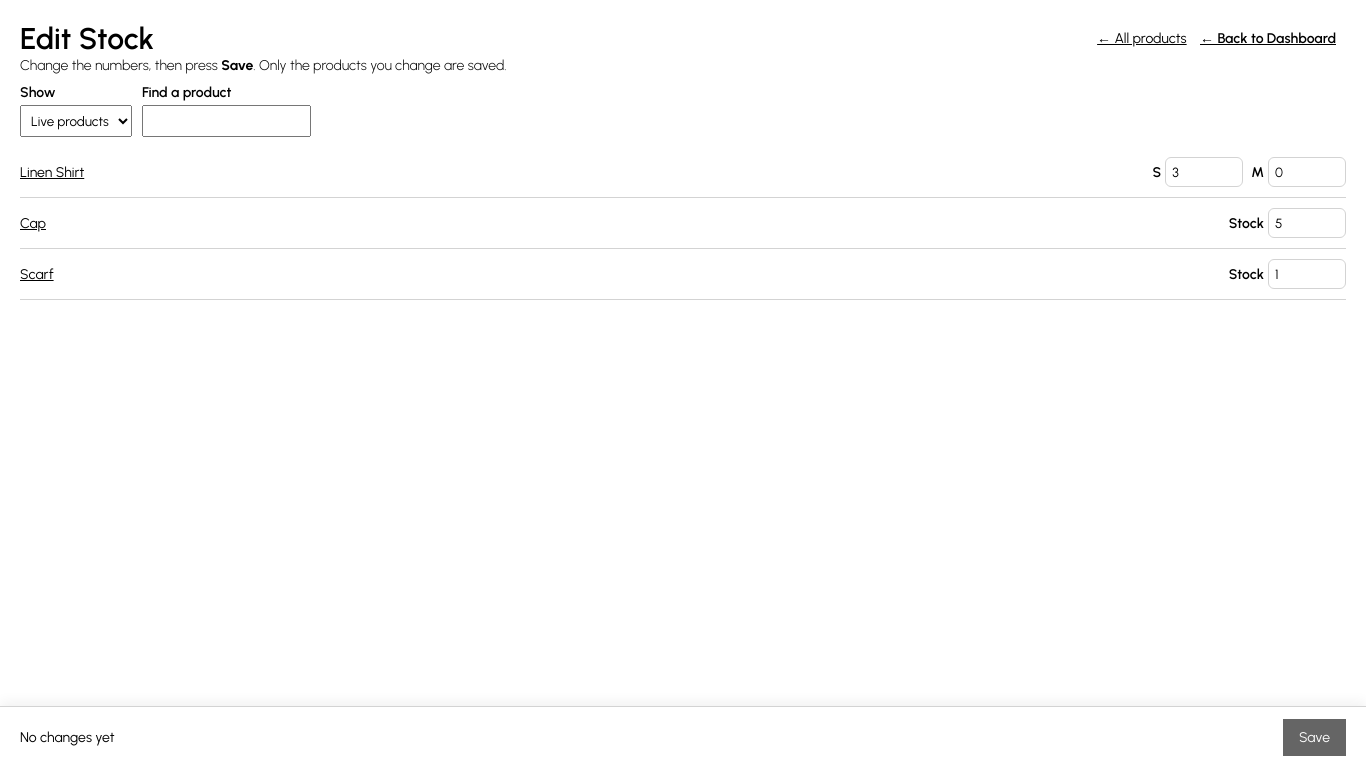
Test: AdminStock › saves only the products that changed, per size or as a whole
Expected: the button "Save" is disabled, left=1283, top=719, right=1346, bottom=756
Replace the text in the number field named "Linen Shirt, size M" with "6". click: x=1307, y=172
box: left=1268, top=157, right=1346, bottom=187
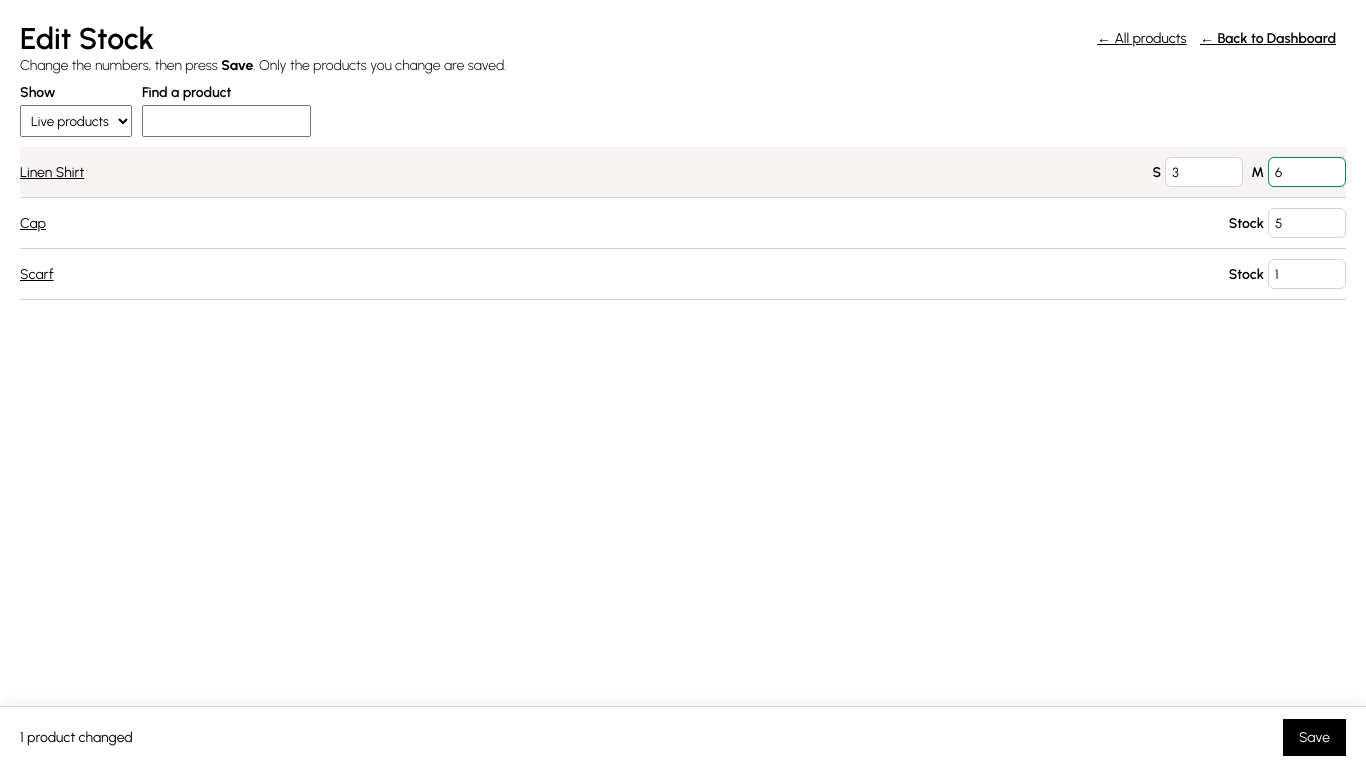
Replace the text in the number field named "Cap stock" with "9". click: x=1307, y=223
box: left=1268, top=208, right=1346, bottom=238
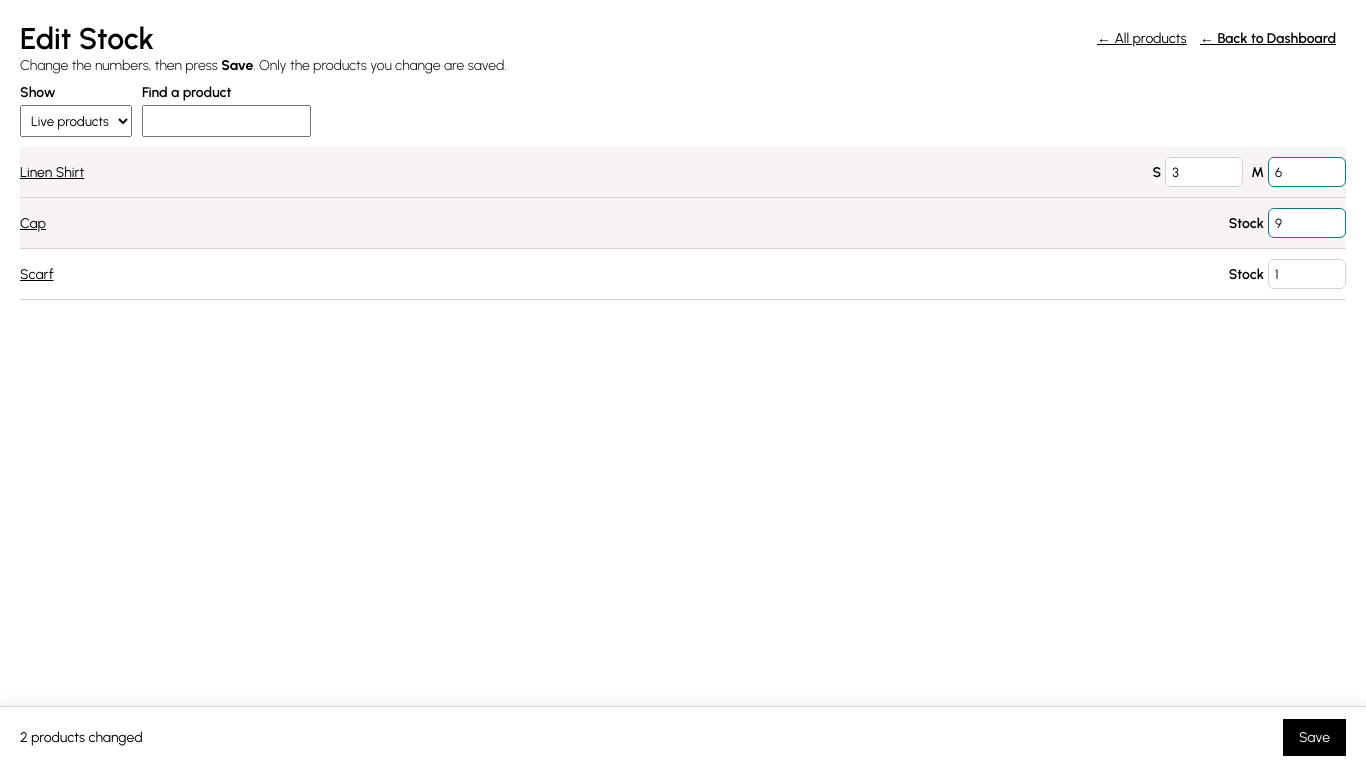
Expected: the text "2 products changed" is shown, left=20, top=729, right=143, bottom=746
Click the button "Save". click: x=1314, y=738
box: left=1283, top=719, right=1346, bottom=756
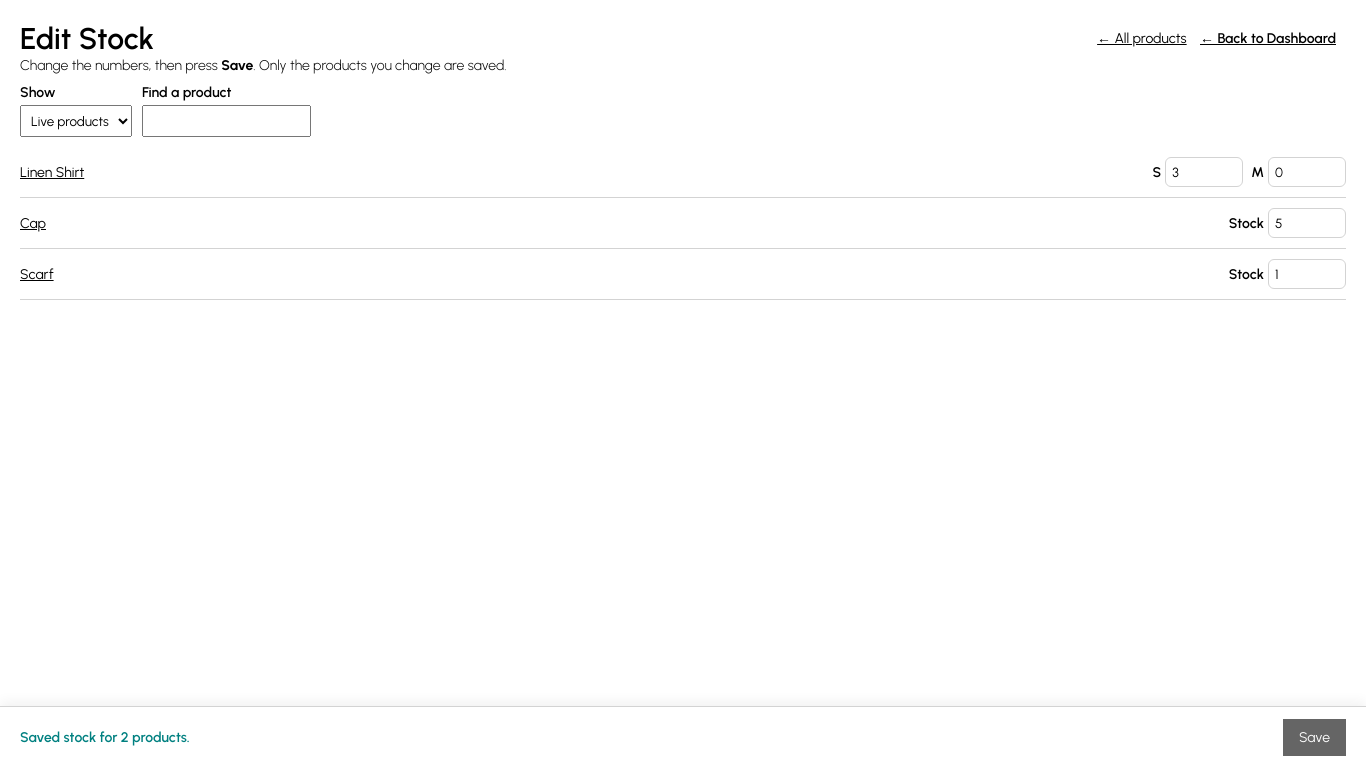
Expected: the message reads "Saved stock for 2 products.", left=20, top=729, right=190, bottom=746
